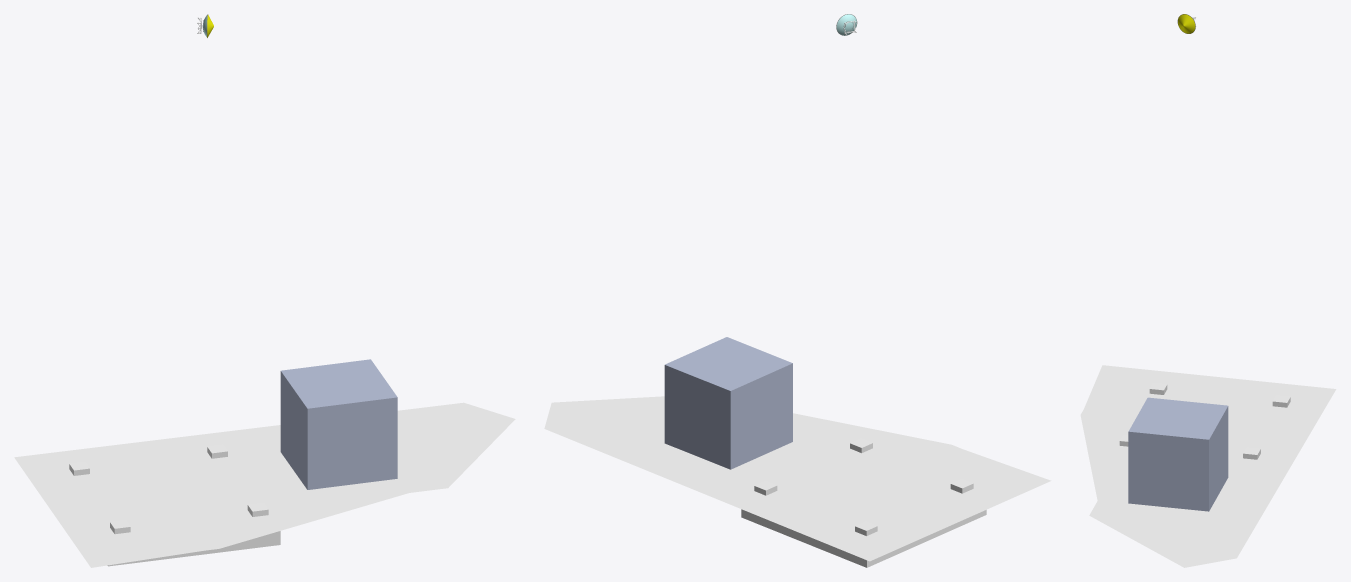
The model's file is ang与座局.glb.
The picture shows the model from 3 angles, left to right: view 1: azimuth 30°, elevation 25°; view 2: azimuth 150°, elevation 25°; view 3: azimuth 270°, elevation 25°; orthographic projection. The views are drawn at different scales.
Parts seen in each view (by area): view 1: group_2.001, group_63, group_2.002, group_27; view 2: group_2.001, group_63, group_2.002, group_27; view 3: group_2.001, group_63, group_2.002.
Part boxes in pixels (x1,y1,x2,y2): group_2.001: [14, 402, 515, 567]; group_63: [280, 359, 397, 489]; group_2.002: [56, 444, 281, 539]; group_27: [107, 531, 280, 566]; group_2.001: [544, 396, 1051, 561]; group_63: [664, 337, 792, 469]; group_2.002: [739, 437, 988, 542]; group_27: [741, 509, 986, 567]; group_2.001: [1080, 365, 1336, 567]; group_63: [1128, 397, 1228, 511]; group_2.002: [1108, 382, 1302, 464].
Bounding box in the file's own units: 45.42 × 46.51 × 24.23.
